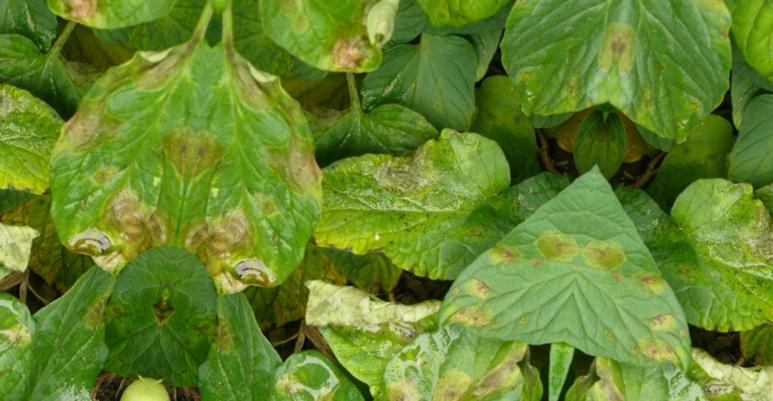Tomato Early blight leaf: (303, 108, 550, 291), (168, 53, 336, 303), (478, 0, 652, 133), (356, 312, 532, 401), (223, 0, 416, 79), (395, 0, 571, 63)
